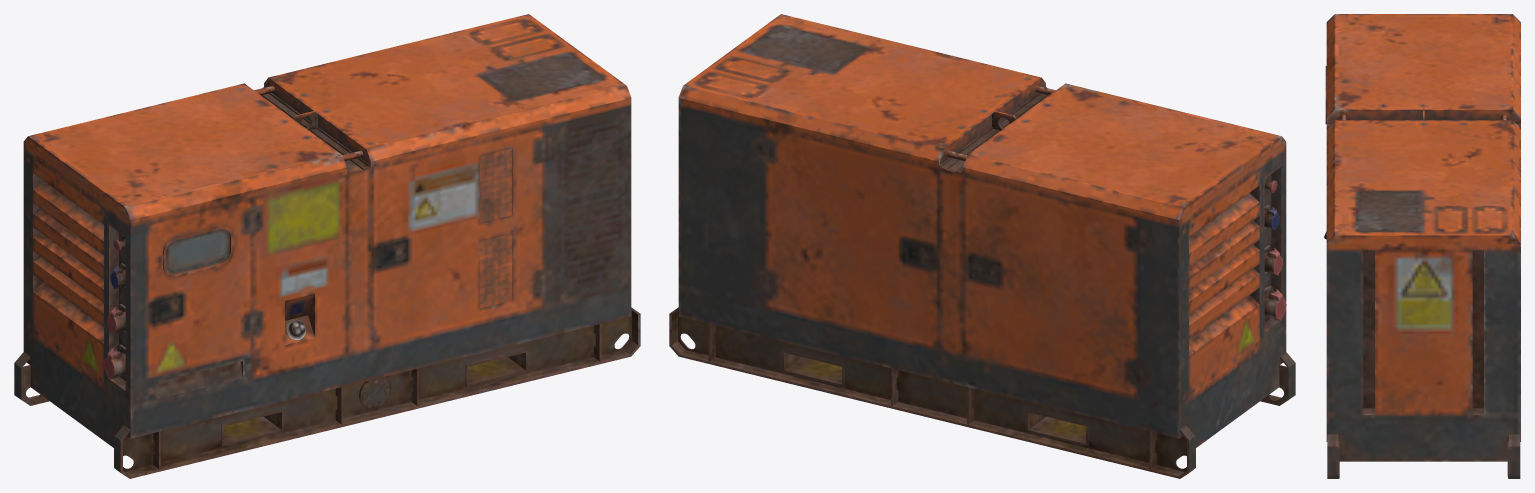
The model's file is sm22_071_generatora.fbx.
The picture shows the model from 3 angles, left to right: view 1: azimuth 30°, elevation 25°; view 2: azimuth 150°, elevation 25°; view 3: azimuth 270°, elevation 25°; orthographic projection. The views are drawn at different scales.
Parts seen in each view (by area): view 1: LOD_1_Group_0_Sub_1__sm22_071_generatorA_A_Mat; view 2: LOD_1_Group_0_Sub_1__sm22_071_generatorA_A_Mat; view 3: LOD_1_Group_0_Sub_1__sm22_071_generatorA_A_Mat.
Boxes of the visible parts, <box> form: LOD_1_Group_0_Sub_1__sm22_071_generatorA_A_Mat: <box>14,14,640,478</box>; LOD_1_Group_0_Sub_1__sm22_071_generatorA_A_Mat: <box>669,14,1295,478</box>; LOD_1_Group_0_Sub_1__sm22_071_generatorA_A_Mat: <box>1324,14,1520,478</box>.
Size of the model in its own units: 4.56 by 2.27 by 1.65.
